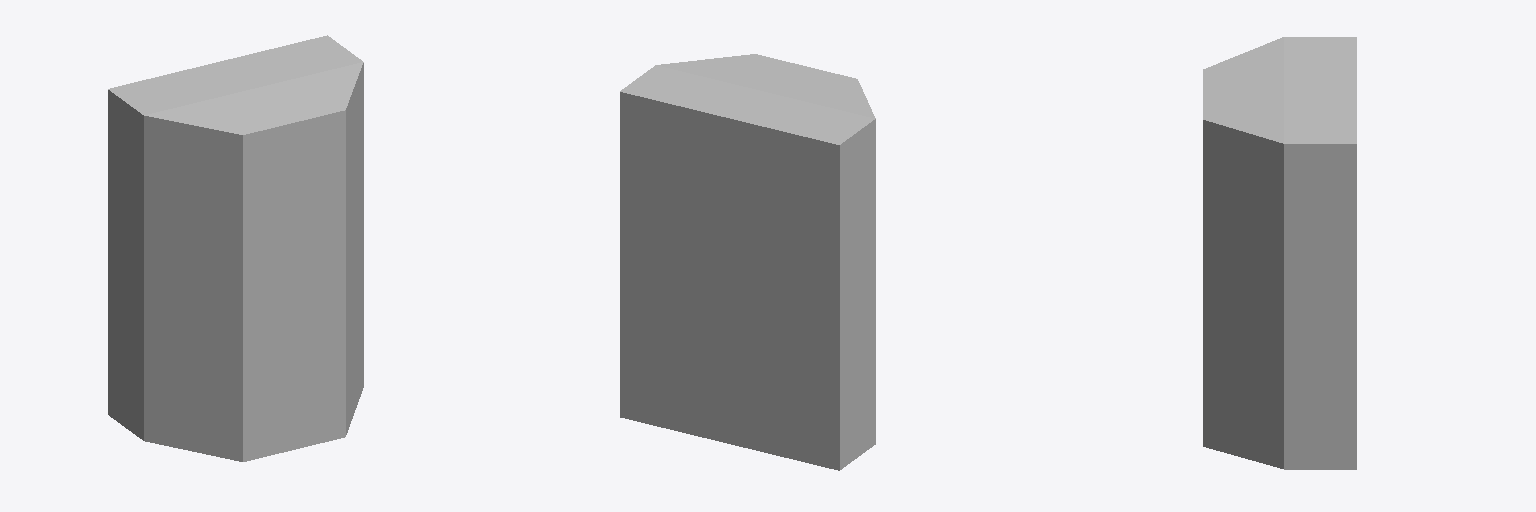
The model's file is tshelf.obj.
The picture shows the model from 3 angles: view 1: azimuth 30°, elevation 25°; view 2: azimuth 150°, elevation 25°; view 3: azimuth 270°, elevation 25°; orthographic projection.
Visible parts, largest first — view 1: Box004; view 2: Box004; view 3: Box004.
Part boxes in pixels (bbox=[...]): Box004: bbox=[108, 35, 363, 461]; Box004: bbox=[620, 54, 875, 470]; Box004: bbox=[1203, 37, 1356, 469].
Size of the model in its own units: 23.57 by 33.93 by 14.28.